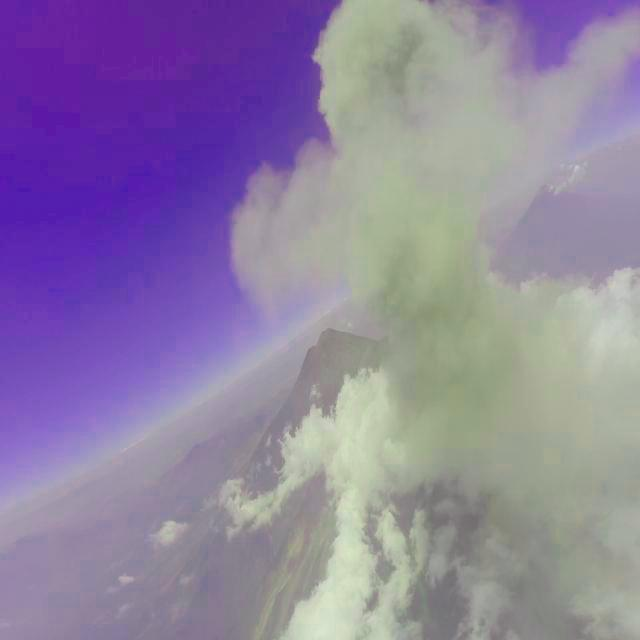Plume: (313, 0, 640, 640)
